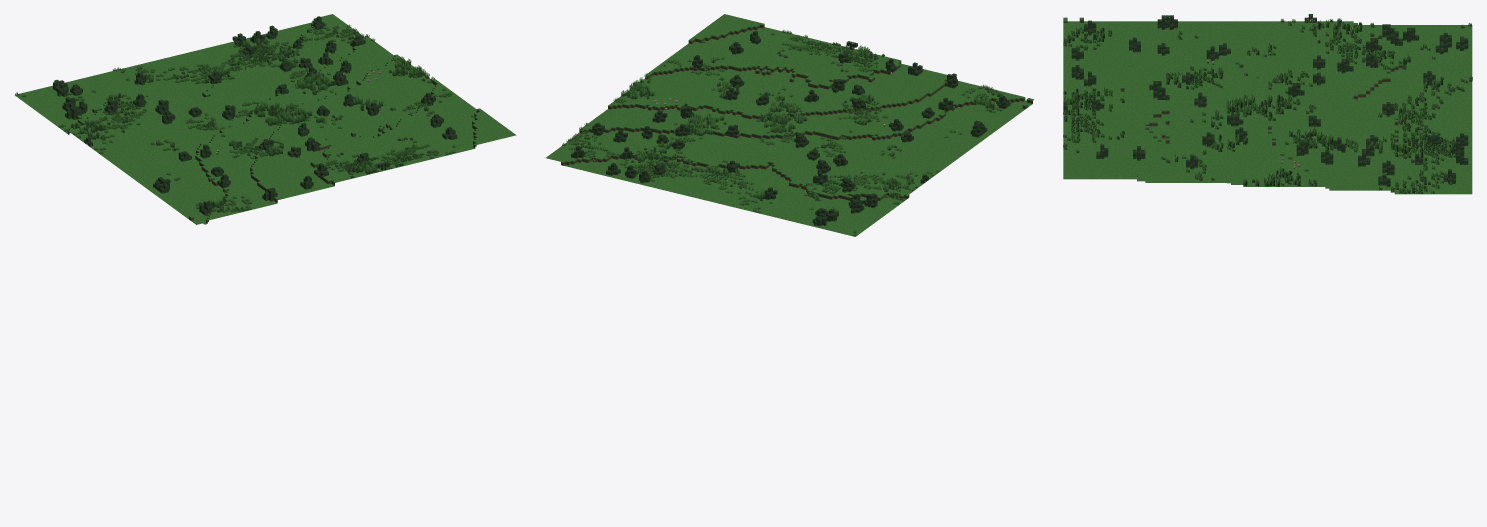
The model's file is chunk200-2900-lvl-1-transformed.glb.
The picture shows the model from 3 angles, left to right: view 1: azimuth 30°, elevation 25°; view 2: azimuth 150°, elevation 25°; view 3: azimuth 270°, elevation 25°; orthographic projection. The views are drawn at different scales.
Parts seen in each view (by area): view 1: Grass_Block, Spruce_Leaves, Grass, Double_Tallgrass, Fern, Large_Fern; view 2: Grass_Block, Spruce_Leaves, Grass, Double_Tallgrass, Fern, Large_Fern; view 3: Grass_Block, Spruce_Leaves, Grass, Double_Tallgrass, Fern, Large_Fern.
Boxes of the visible parts, x1=… form: Grass_Block: x1=14, y1=14, x2=516, y2=224; Spruce_Leaves: x1=53, y1=16, x2=457, y2=215; Grass: x1=15, y1=22, x2=474, y2=216; Double_Tallgrass: x1=77, y1=38, x2=434, y2=212; Fern: x1=93, y1=29, x2=430, y2=214; Large_Fern: x1=70, y1=40, x2=421, y2=207; Grass_Block: x1=546, y1=14, x2=1034, y2=236; Spruce_Leaves: x1=571, y1=30, x2=1010, y2=226; Grass: x1=562, y1=30, x2=1011, y2=235; Double_Tallgrass: x1=621, y1=45, x2=1001, y2=200; Fern: x1=571, y1=38, x2=995, y2=197; Large_Fern: x1=627, y1=51, x2=995, y2=200; Grass_Block: x1=1063, y1=17, x2=1472, y2=194; Spruce_Leaves: x1=1063, y1=14, x2=1468, y2=186; Grass: x1=1063, y1=18, x2=1472, y2=193; Double_Tallgrass: x1=1064, y1=18, x2=1455, y2=186; Fern: x1=1063, y1=31, x2=1451, y2=193; Large_Fern: x1=1072, y1=22, x2=1458, y2=185.
Bounding box in the file's own units: 100 × 92 × 100.
26 materials, 26 textured.
